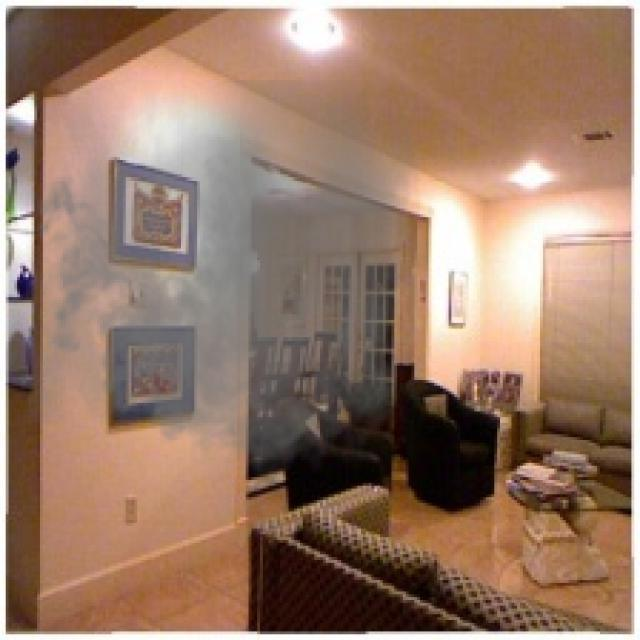Smoke: (26, 80, 420, 492)
